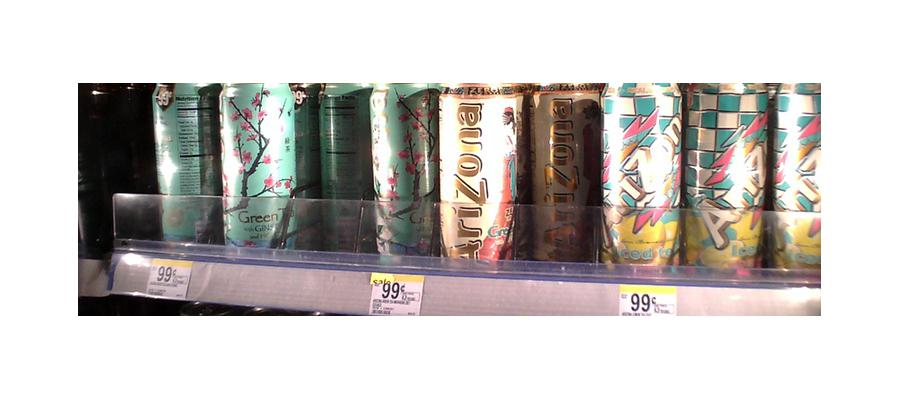bottle: (685, 78, 769, 275), (437, 84, 525, 268), (606, 78, 680, 273), (218, 82, 295, 255), (528, 82, 601, 262), (375, 82, 437, 263), (153, 80, 219, 249), (773, 77, 825, 275), (321, 82, 374, 257)
